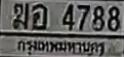4: (62, 3, 73, 29)
7: (76, 4, 89, 30)
8: (107, 5, 119, 30), (92, 5, 104, 30)
A06: (12, 2, 29, 28)
A43: (31, 3, 46, 29)
BKK: (11, 37, 106, 57)
